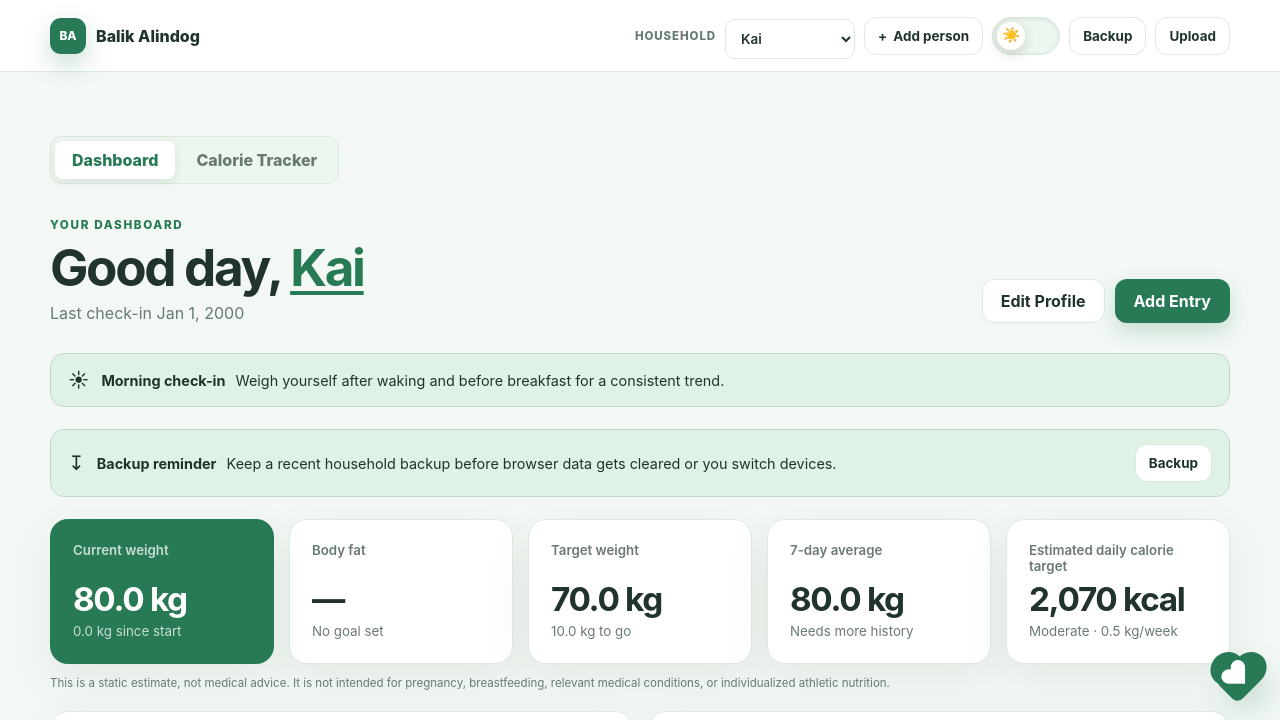
Test case: Balik Alindog Tracker › enables add entry on a fresh date and disables it after saving today
The width and height of the screenshot is (1280, 720).
Step 1. Click the button "Add Entry" → click(1172, 301), box [1114, 279, 1230, 323]
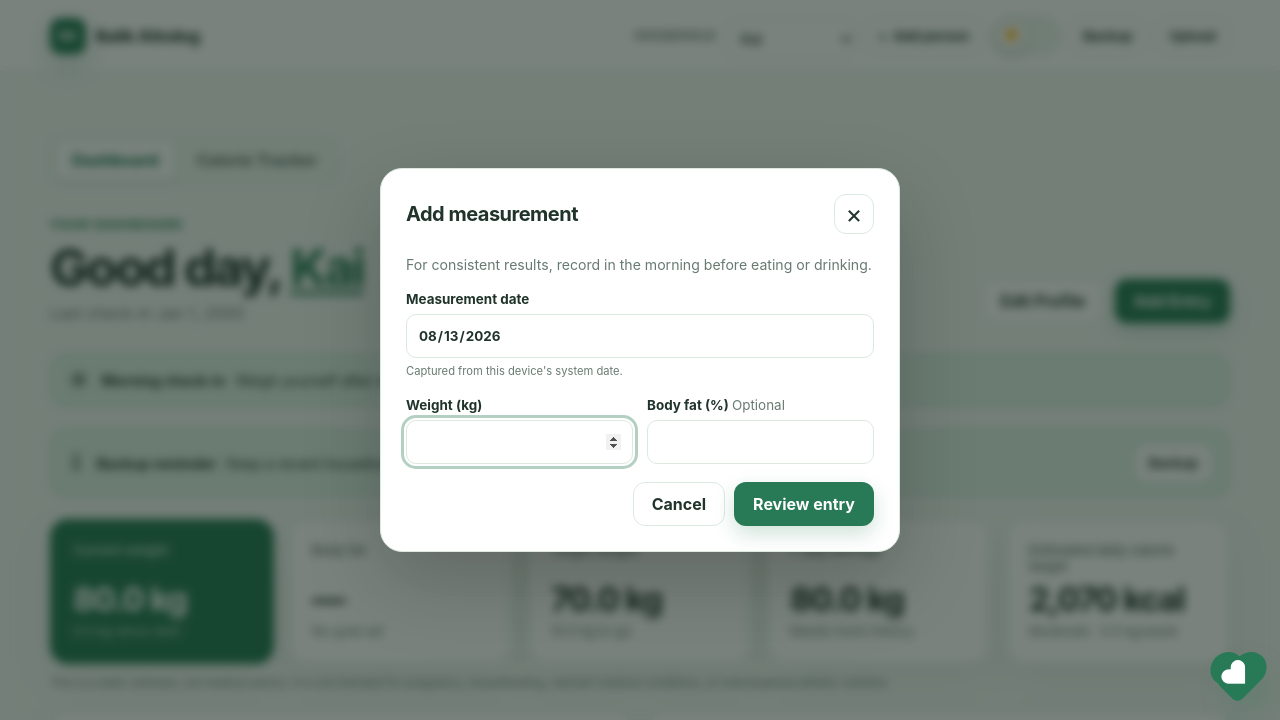
Step 2. Type "79" into the number field labelled "Weight (kg)" → (520, 442), box [406, 420, 633, 464]
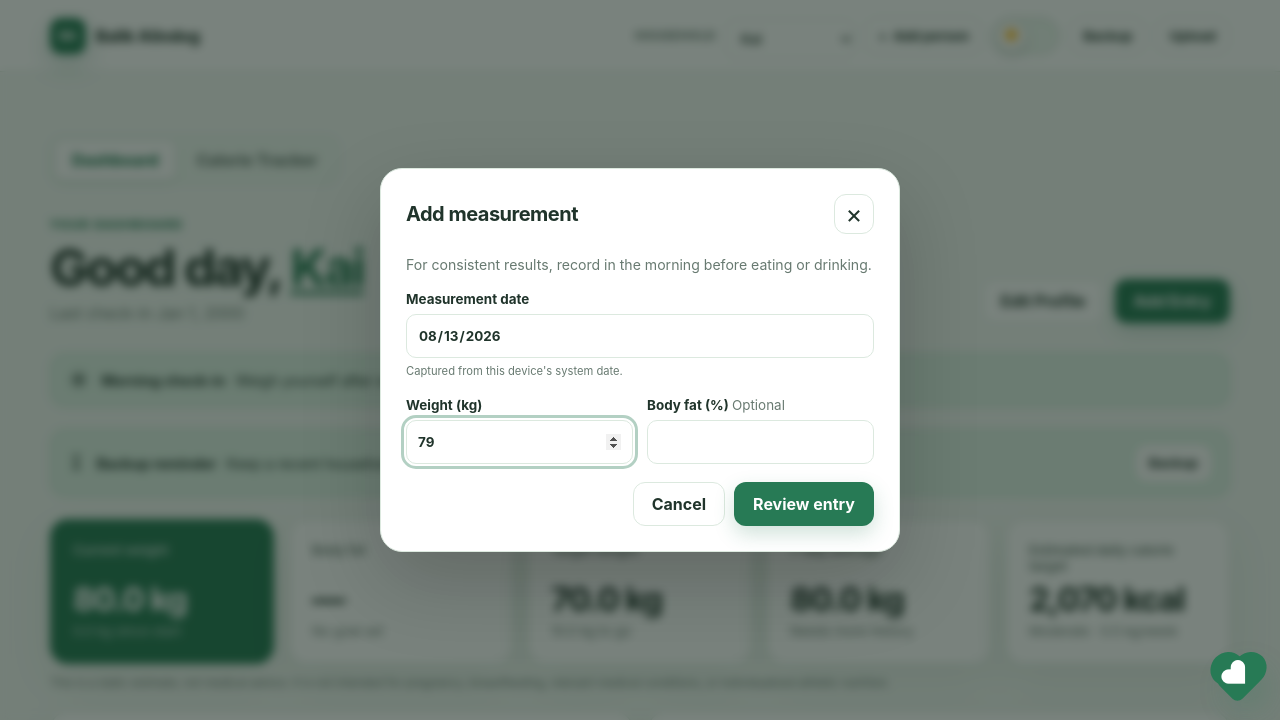
Step 3. Click the button "Review entry" → click(804, 504), box [734, 482, 874, 526]
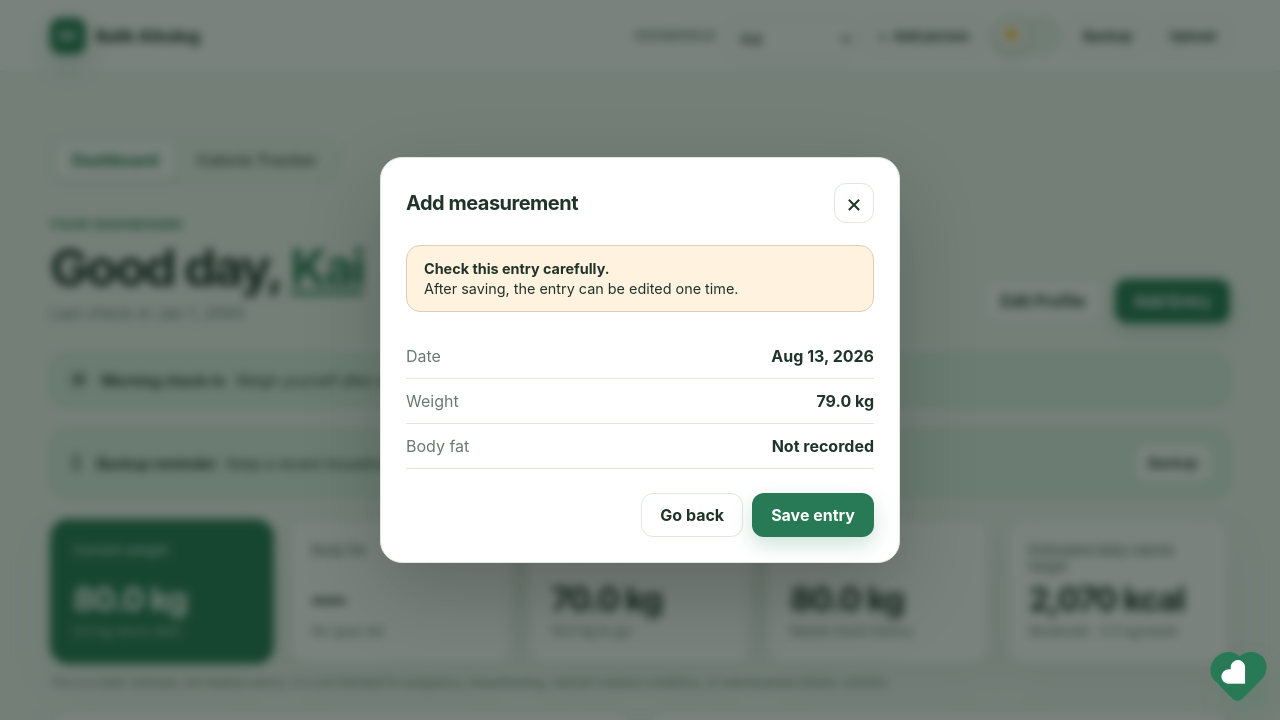
Step 4. Click the button "Save entry" → click(813, 515), box [752, 493, 874, 537]
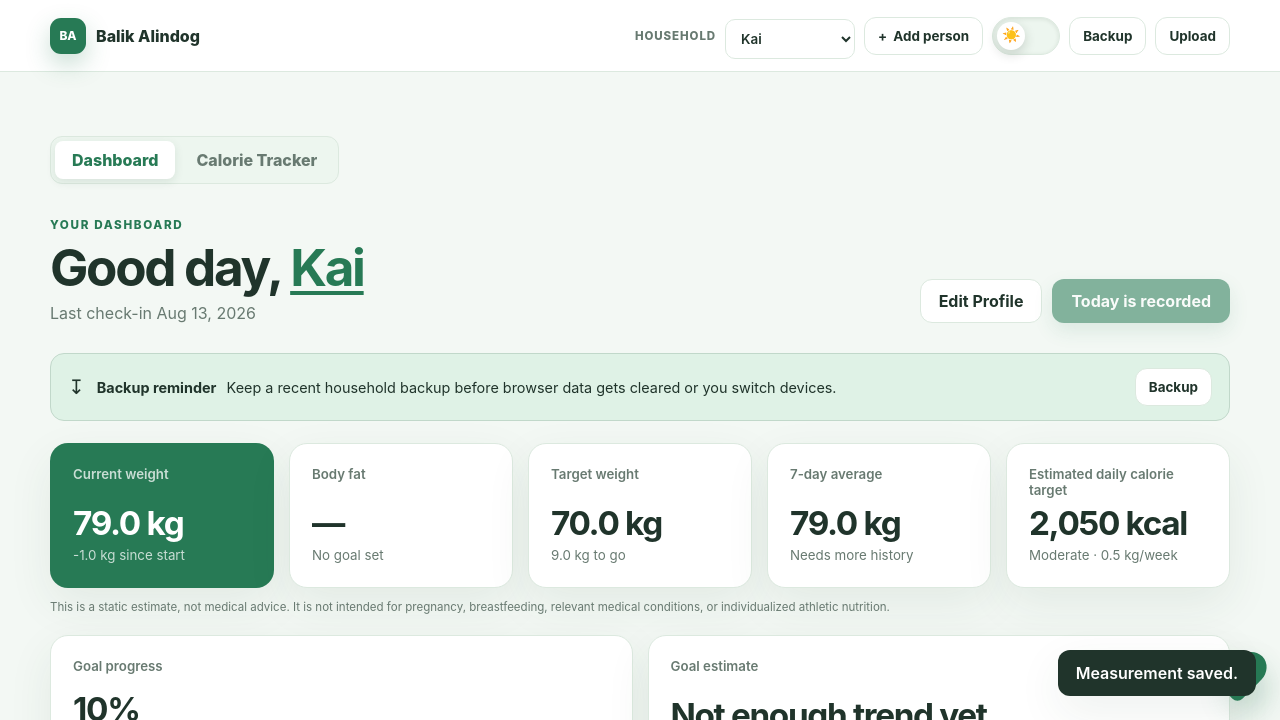
Expected: the button "Today is recorded" is disabled, [1052, 279, 1230, 323]
